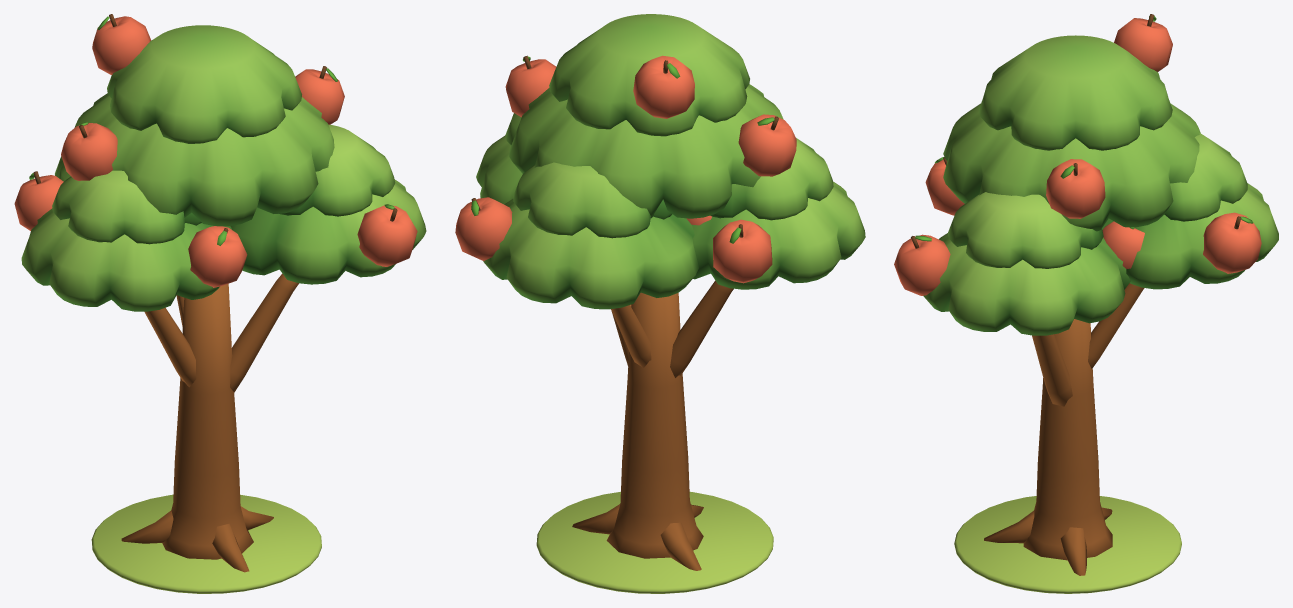
The model's file is apple-tree.glb.
3 views of the same model, side by side, from view 1: azimuth 30°, elevation 25°; view 2: azimuth 150°, elevation 25°; view 3: azimuth 270°, elevation 25° (orthographic). The views are drawn at different scales.
Parts seen in each view (by area): view 1: body, base_disc; view 2: body, base_disc; view 3: body, base_disc.
Boxes of the visible parts, x1,y1,x2,y2 form: body: (14,14,426,572); base_disc: (91,494,321,593); body: (455,14,865,570); base_disc: (536,491,773,593); body: (894,14,1278,575); base_disc: (954,496,1181,593).
Size of the model in its own units: 2.7 by 3.7 by 2.54.
